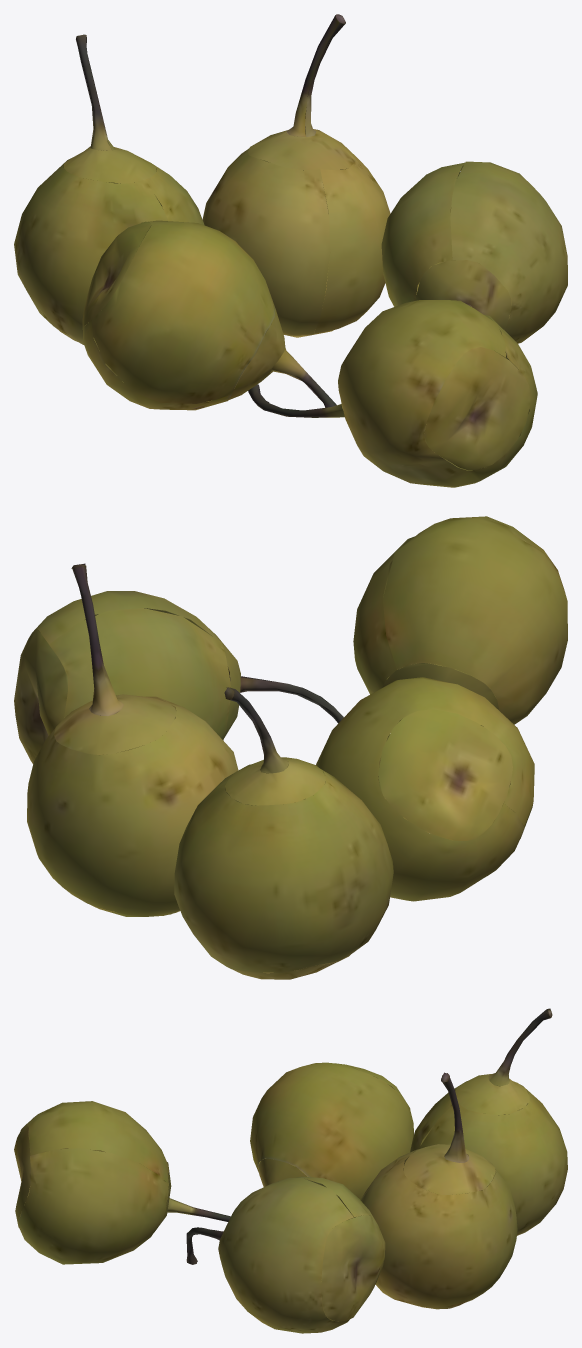
Rendered from food_pears_asian_01.glb.
The picture shows the model from 3 angles, top to bottom: view 1: azimuth 30°, elevation 25°; view 2: azimuth 150°, elevation 25°; view 3: azimuth 270°, elevation 25°; orthographic projection. The views are drawn at different scales.
Visible parts, largest first — view 1: food_pears_asian_01_d, food_pears_asian_01_b, food_pears_asian_01_c, food_pears_asian_01_a, food_pears_asian_01_e; view 2: food_pears_asian_01_e, food_pears_asian_01_c, food_pears_asian_01_d, food_pears_asian_01_b, food_pears_asian_01_a; view 3: food_pears_asian_01_b, food_pears_asian_01_a, food_pears_asian_01_c, food_pears_asian_01_d, food_pears_asian_01_e.
Boxes of the visible parts, x1,y1,x2,y2 form: food_pears_asian_01_d: (82, 220, 336, 410); food_pears_asian_01_b: (248, 300, 537, 487); food_pears_asian_01_c: (202, 14, 390, 337); food_pears_asian_01_a: (381, 161, 567, 343); food_pears_asian_01_e: (14, 34, 204, 344); food_pears_asian_01_e: (174, 687, 393, 979); food_pears_asian_01_c: (27, 563, 238, 916); food_pears_asian_01_d: (316, 677, 534, 901); food_pears_asian_01_b: (353, 516, 567, 724); food_pears_asian_01_a: (14, 591, 343, 763); food_pears_asian_01_b: (14, 1101, 230, 1264); food_pears_asian_01_a: (186, 1176, 385, 1333); food_pears_asian_01_c: (360, 1072, 517, 1309); food_pears_asian_01_d: (250, 1062, 413, 1199); food_pears_asian_01_e: (410, 1008, 567, 1235).
Size of the model in its own units: 0.1169 by 0.0716 by 0.1513.
Materials: 1 (1 with a texture image).
